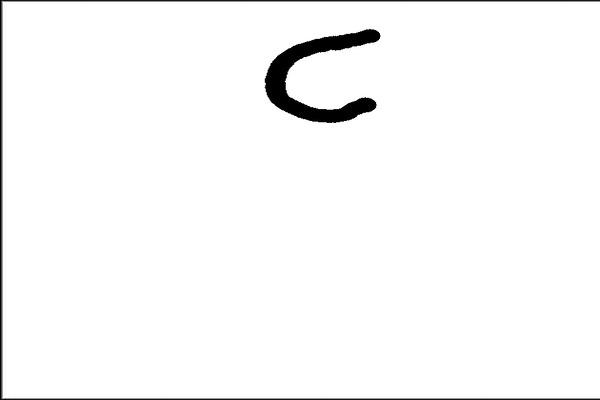C: (257, 20, 385, 130)
